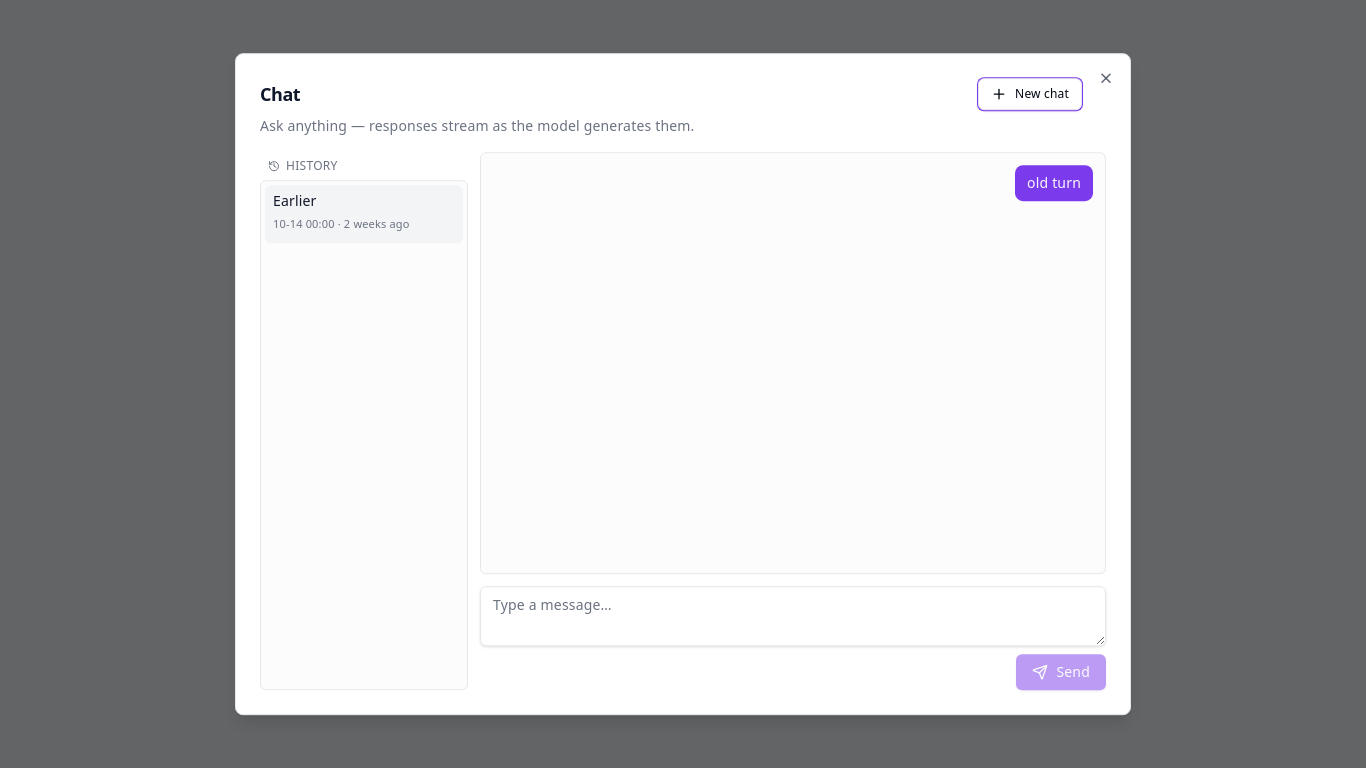
it: ChatPanel chat history › starts a new session without dropping the history list
Click the button with test id "chat-new-session" at (1030, 94), box 978,78 -> 1082,110
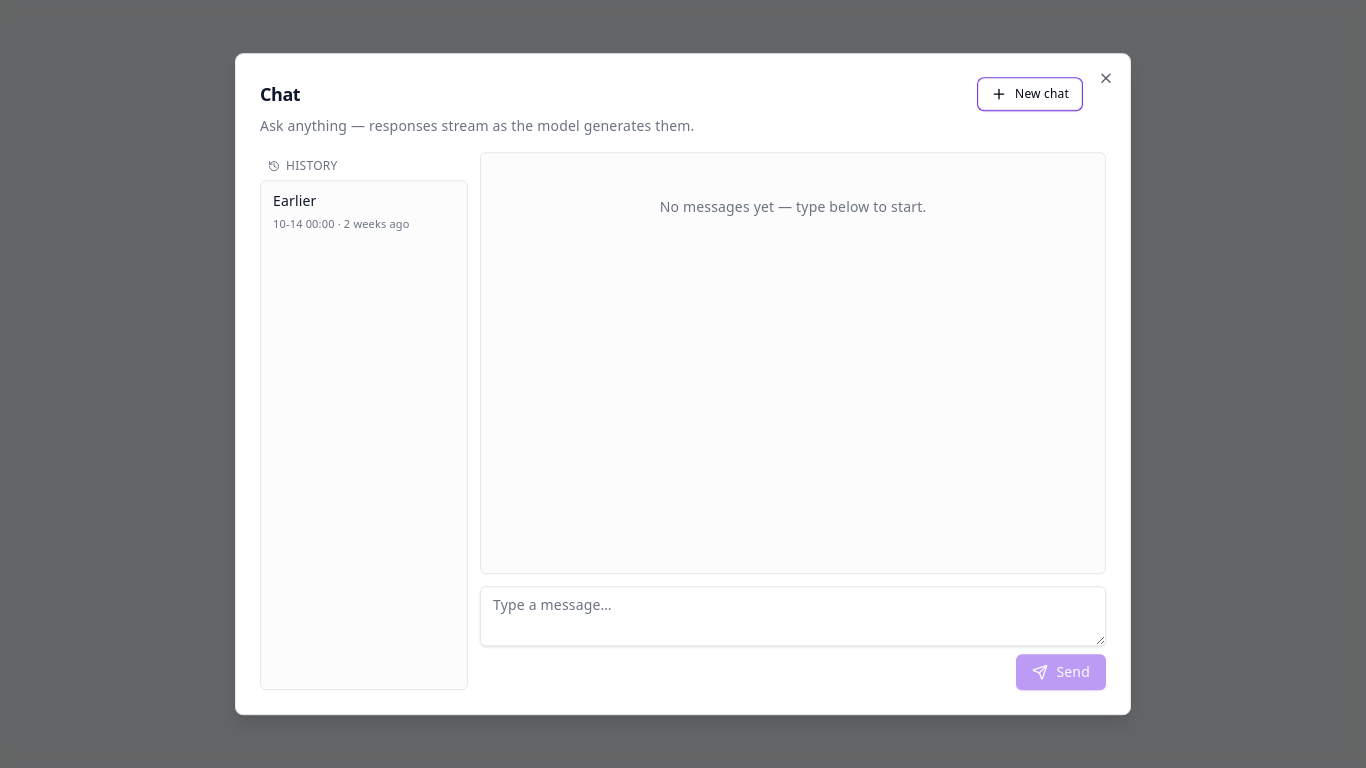
Expected: the text "Earlier" is shown, 273,191 -> 317,210
Expected: the element with test id "chat-message-user" is gone
